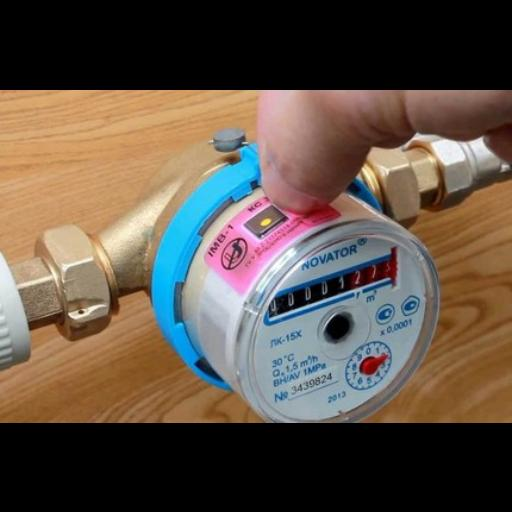0: (317, 277, 332, 300), (284, 290, 298, 311), (300, 284, 314, 305), (266, 296, 280, 317)
1: (335, 272, 349, 293)
2: (350, 266, 364, 289)
3: (380, 257, 394, 276)
7: (367, 261, 380, 284)
border_water_meter_number: (255, 252, 404, 328)
